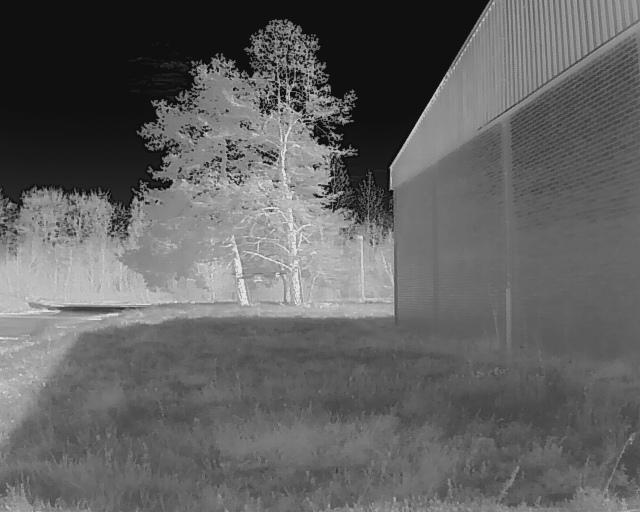drone: (224, 249, 293, 305)
